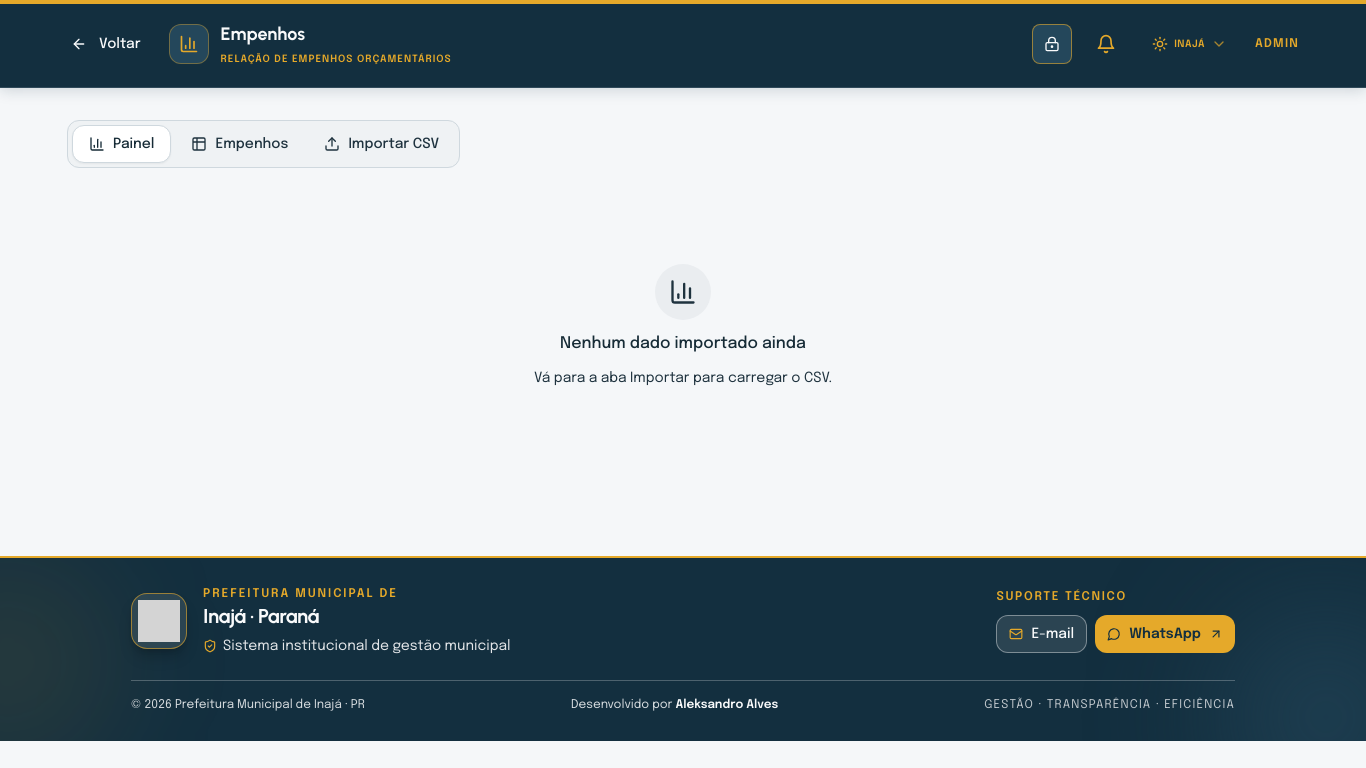
Test: Empenhos – Tabela com filtros › mostra estado vazio com botão de limpar quando filtros não retornam dados
The image size is (1366, 768).
Click the tab "Empenhos" at (240, 144), box left=176, top=125, right=304, bottom=163
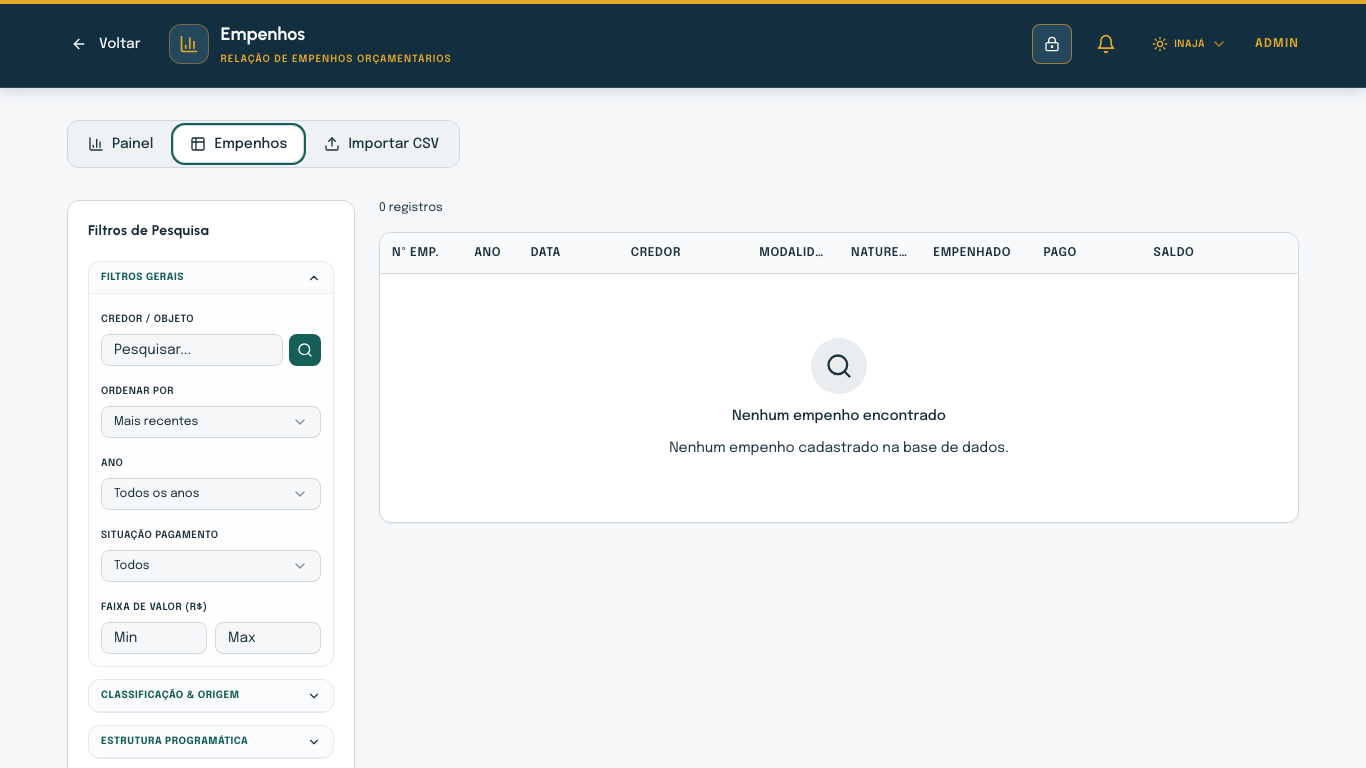
Result: the text "Nenhum empenho encontrado" is shown at left=732, top=406, right=946, bottom=426
